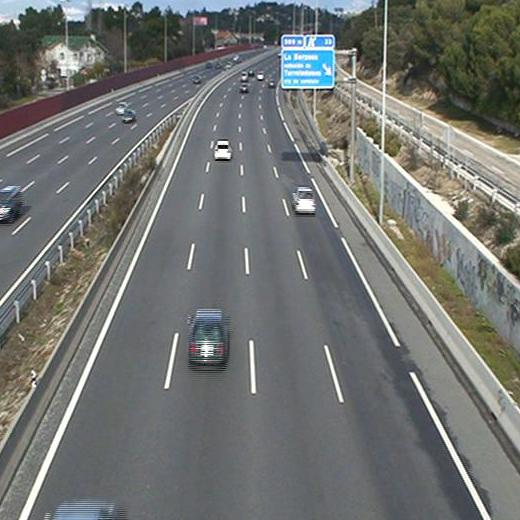car: (180, 304, 236, 376), (287, 185, 321, 218), (210, 137, 236, 163)
